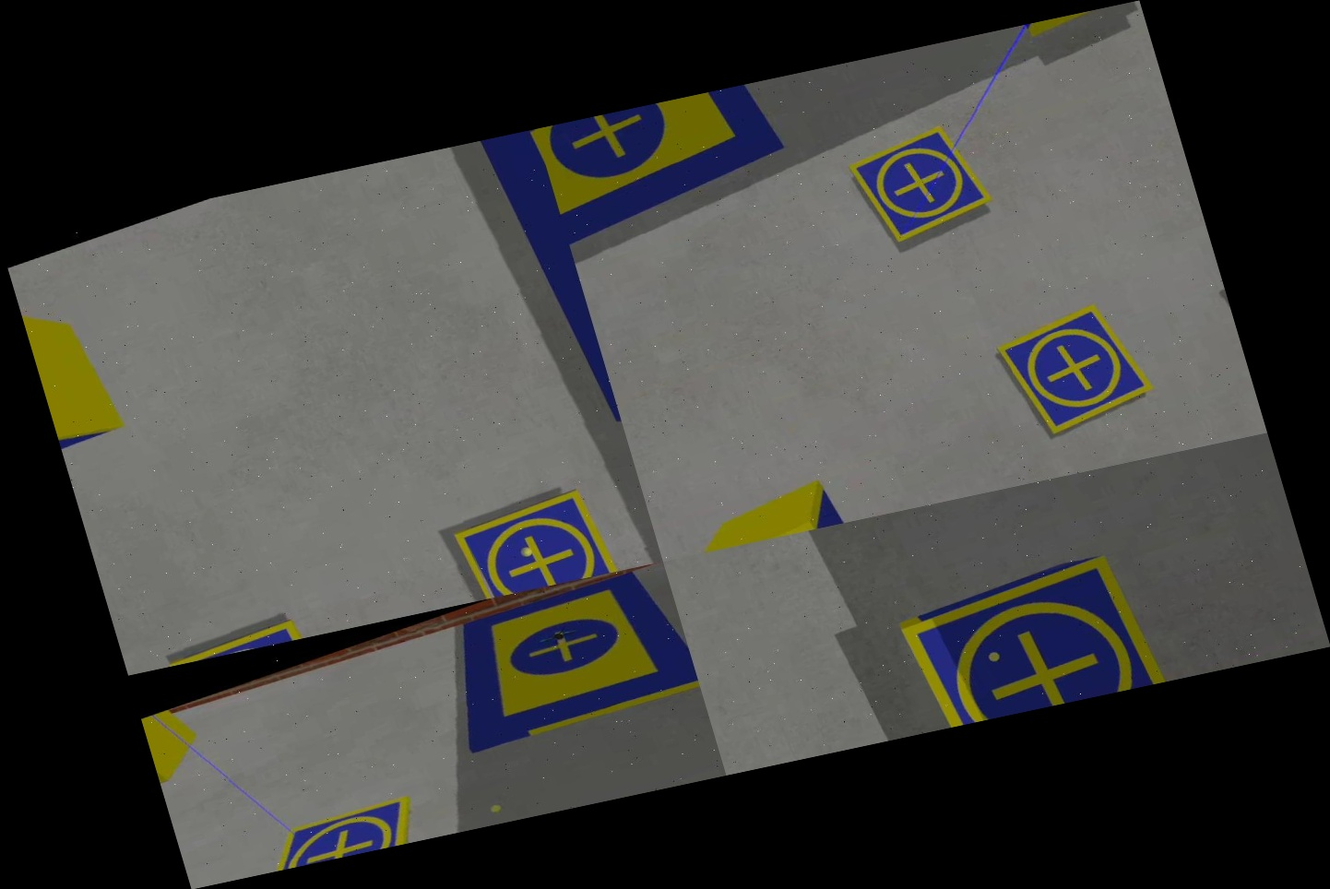large_base: (407, 562, 710, 775), (535, 78, 813, 259)
small_base: (893, 551, 1170, 730), (989, 293, 1167, 446), (837, 115, 1003, 255), (220, 778, 433, 879), (446, 482, 623, 602), (160, 610, 319, 667)
